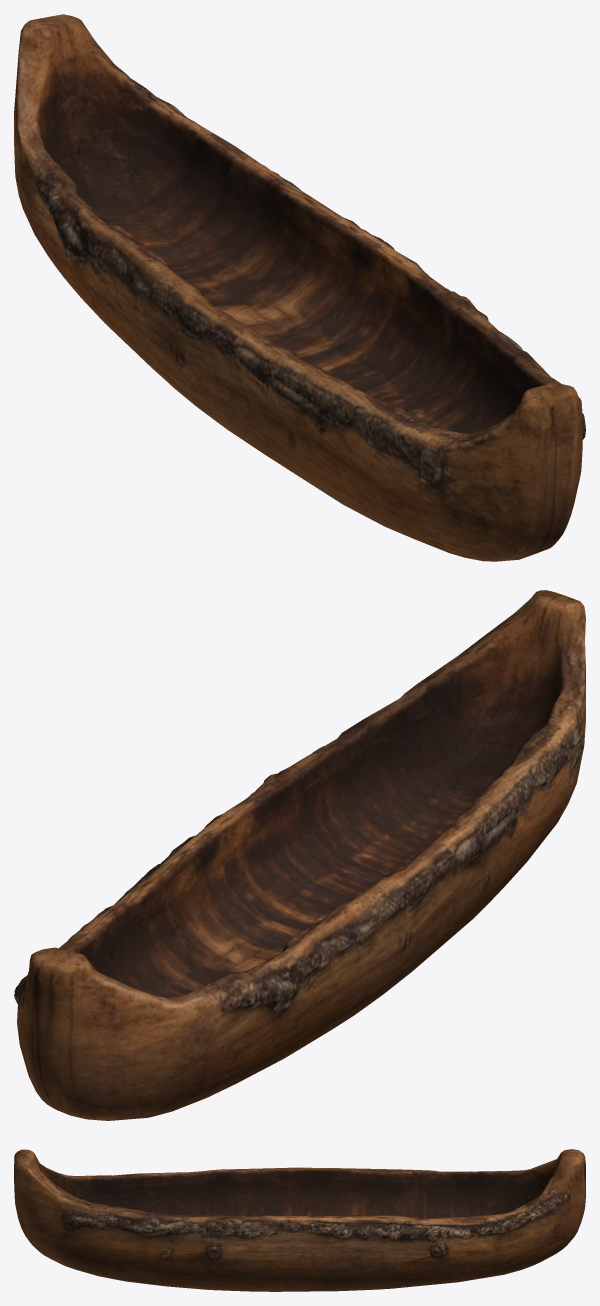
3 views of the same model, one above another, from view 1: azimuth 30°, elevation 25°; view 2: azimuth 150°, elevation 25°; view 3: azimuth 270°, elevation 25° (orthographic). The views are drawn at different scales.
Parts seen in each view (by area): view 1: dugout-canoe; view 2: dugout-canoe; view 3: dugout-canoe.
Part boxes in pixels (left/top/right/bottom): dugout-canoe: left=14, top=14, right=585, bottom=561; dugout-canoe: left=14, top=590, right=585, bottom=1120; dugout-canoe: left=14, top=1149, right=585, bottom=1291.
Bounding box in the file's own units: 0.9522 × 0.9483 × 3.8.
Materials: 1 (1 with a texture image).
